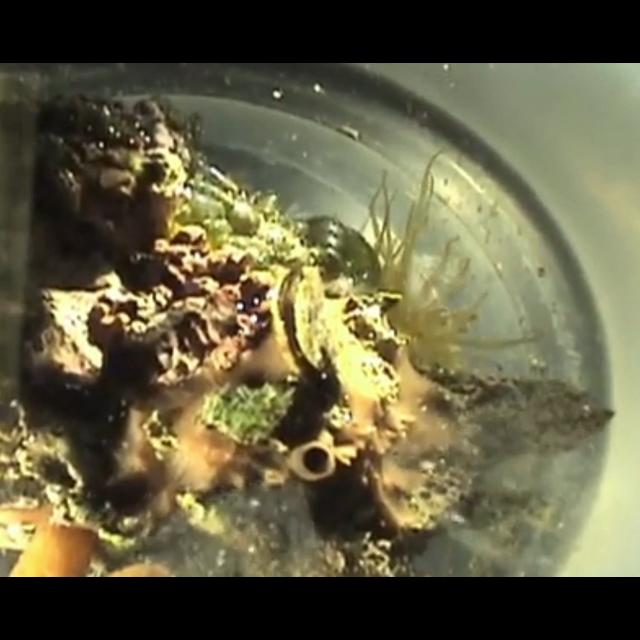Oyster-Open: (268, 262, 328, 378)
